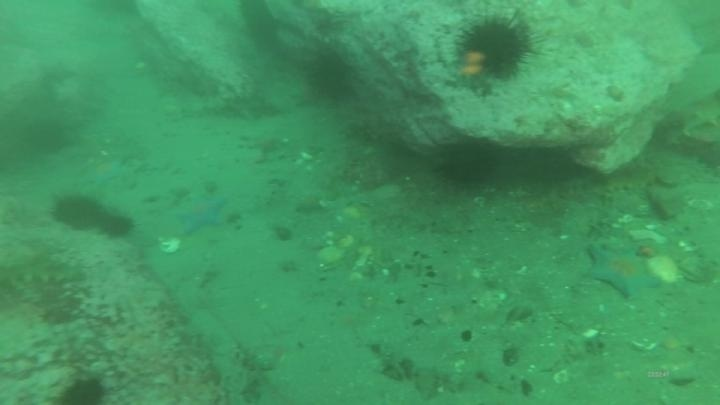echinus: (454, 12, 536, 84), (434, 140, 499, 190), (305, 46, 358, 103), (50, 192, 104, 233), (21, 115, 72, 157), (56, 374, 109, 404), (97, 210, 136, 242)
holothurian: (1, 249, 88, 292), (593, 166, 664, 202)
starfish: (583, 242, 662, 301), (174, 193, 229, 237), (81, 154, 127, 188), (238, 129, 289, 159)
